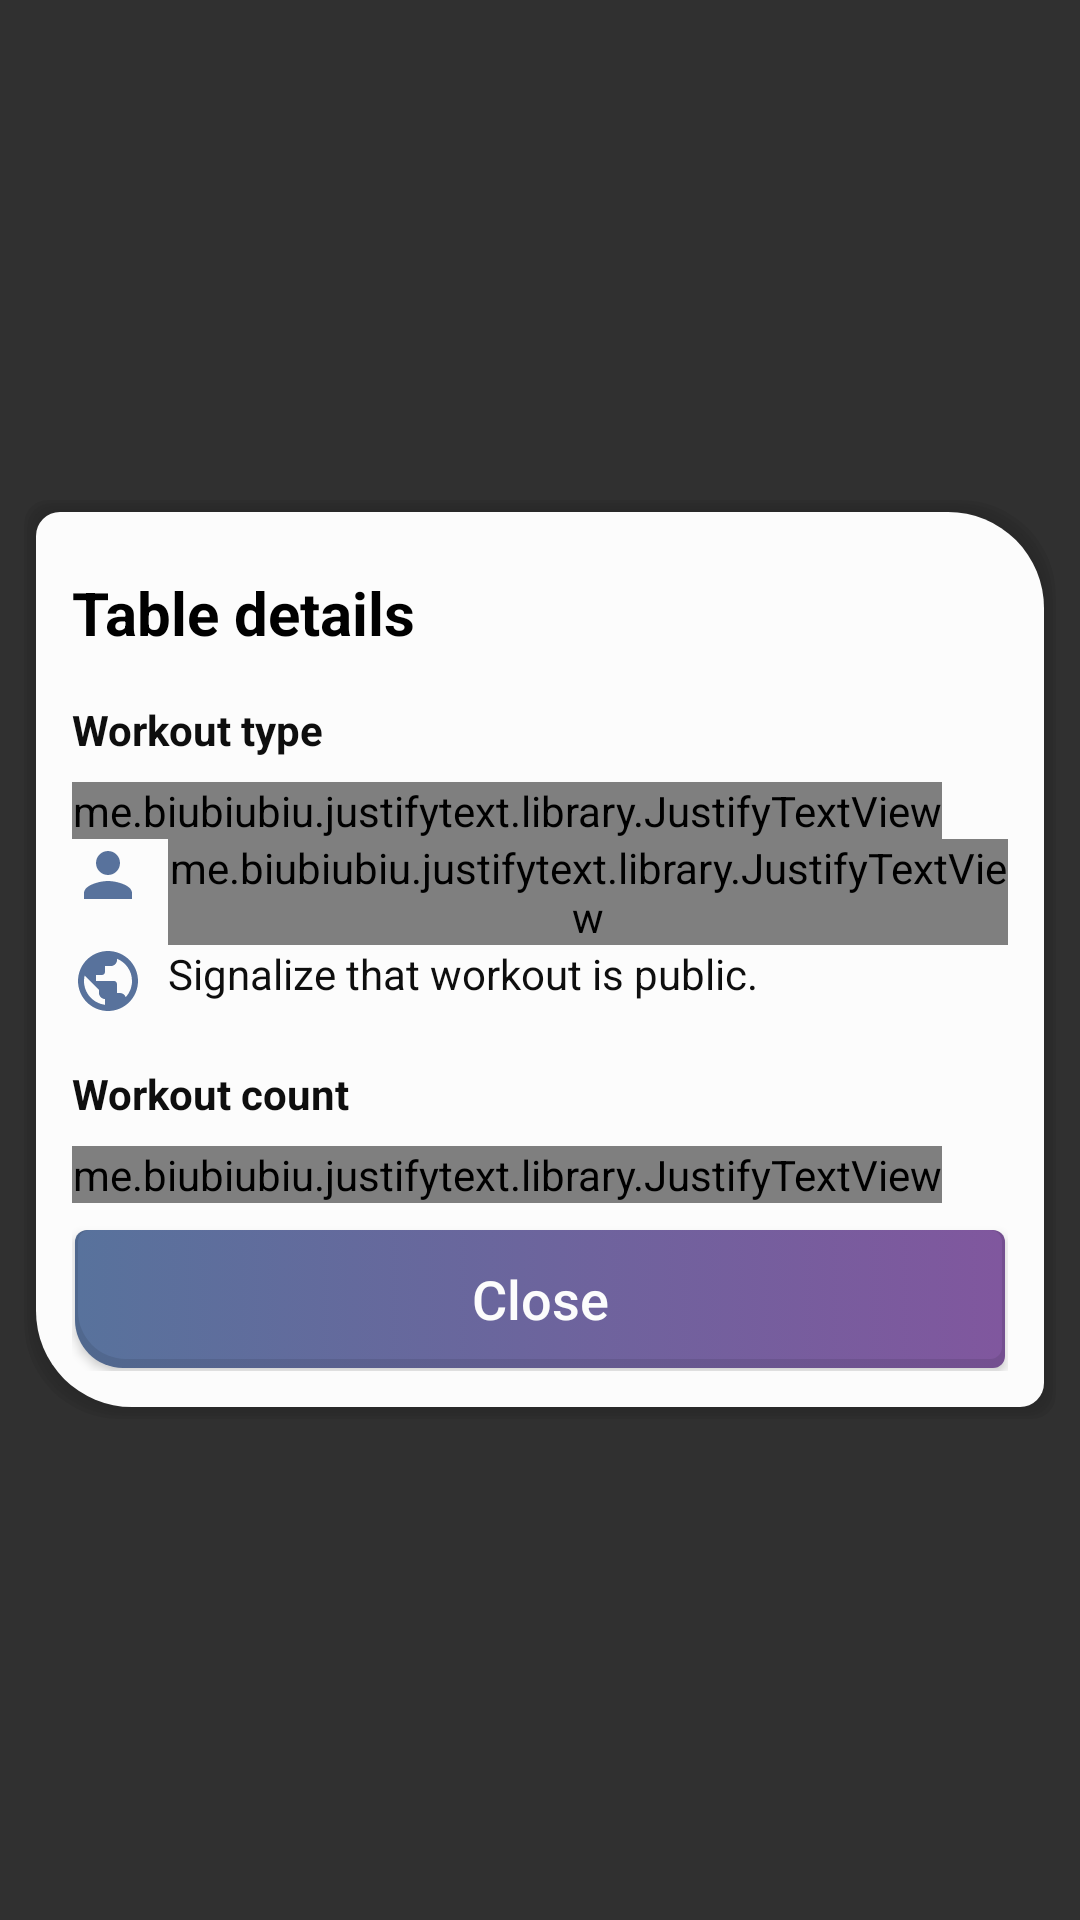

Point at icon controls on the screen. Image size 1080px×1920px, points as point (x, y).
status public: point (108, 981)
